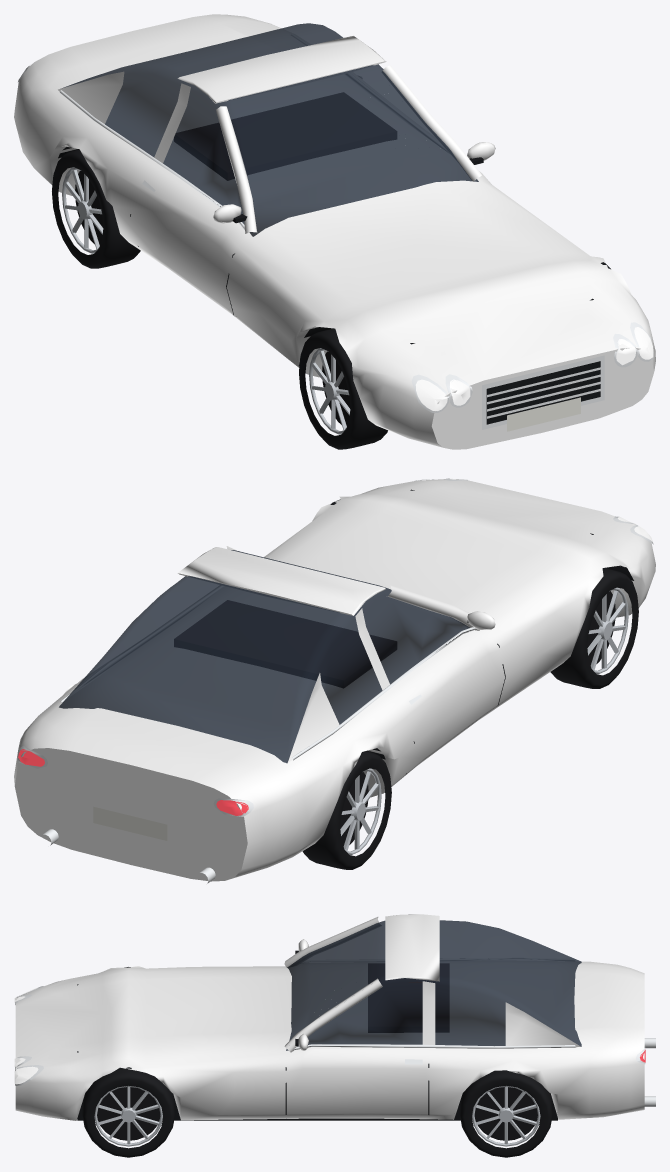
File: solenne_monarch.lod.glb
3 views of the same model, one above another, from view 1: azimuth 30°, elevation 25°; view 2: azimuth 150°, elevation 25°; view 3: azimuth 270°, elevation 25° (orthographic). The views are drawn at different scales.
Parts seen in each view (by area): view 1: body_paint, body_glass, body_trim, tire (×2), body_chrome, door_glass, rim (×2), headlights; view 2: body_paint, body_glass, body_trim, tire (×2), rim (×2), body_chrome, taillights; view 3: body_paint, body_glass, door_paint, tire (×2), door_glass, body_trim, rim_back (×2), rim (×2), body_chrome, headlights.
Boxes of the visible parts, <box> form: body_paint: <box>14,14,655,449</box>; body_glass: <box>62,23,445,236</box>; body_trim: <box>58,92,610,431</box>; tire (×2): <box>52,149,387,449</box>; body_chrome: <box>18,34,653,429</box>; door_glass: <box>357,66,478,186</box>; rim (×2): <box>62,167,350,434</box>; headlights: <box>415,327,653,410</box>; body_paint: <box>14,479,655,881</box>; body_glass: <box>59,550,469,763</box>; body_trim: <box>93,489,633,840</box>; tire (×2): <box>302,568,638,869</box>; rim (×2): <box>340,587,628,855</box>; body_chrome: <box>17,478,653,883</box>; taillights: <box>18,749,248,815</box>; body_paint: <box>15,914,644,1120</box>; body_glass: <box>287,920,581,1046</box>; door_paint: <box>285,981,425,1119</box>; tire (×2): <box>82,1069,552,1157</box>; door_glass: <box>286,975,422,1050</box>; body_trim: <box>77,950,557,1120</box>; rim_back (×2): <box>97,1087,537,1140</box>; rim (×2): <box>94,1086,540,1146</box>; body_chrome: <box>15,958,655,1106</box>; headlights: <box>14,987,38,1084</box>.
Size of the model in its own units: 2.05 by 1.42 by 5.1.
